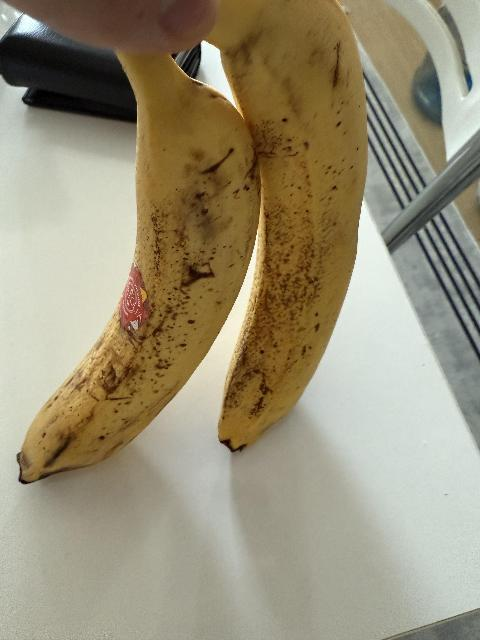Organik: (13, 0, 375, 490)
